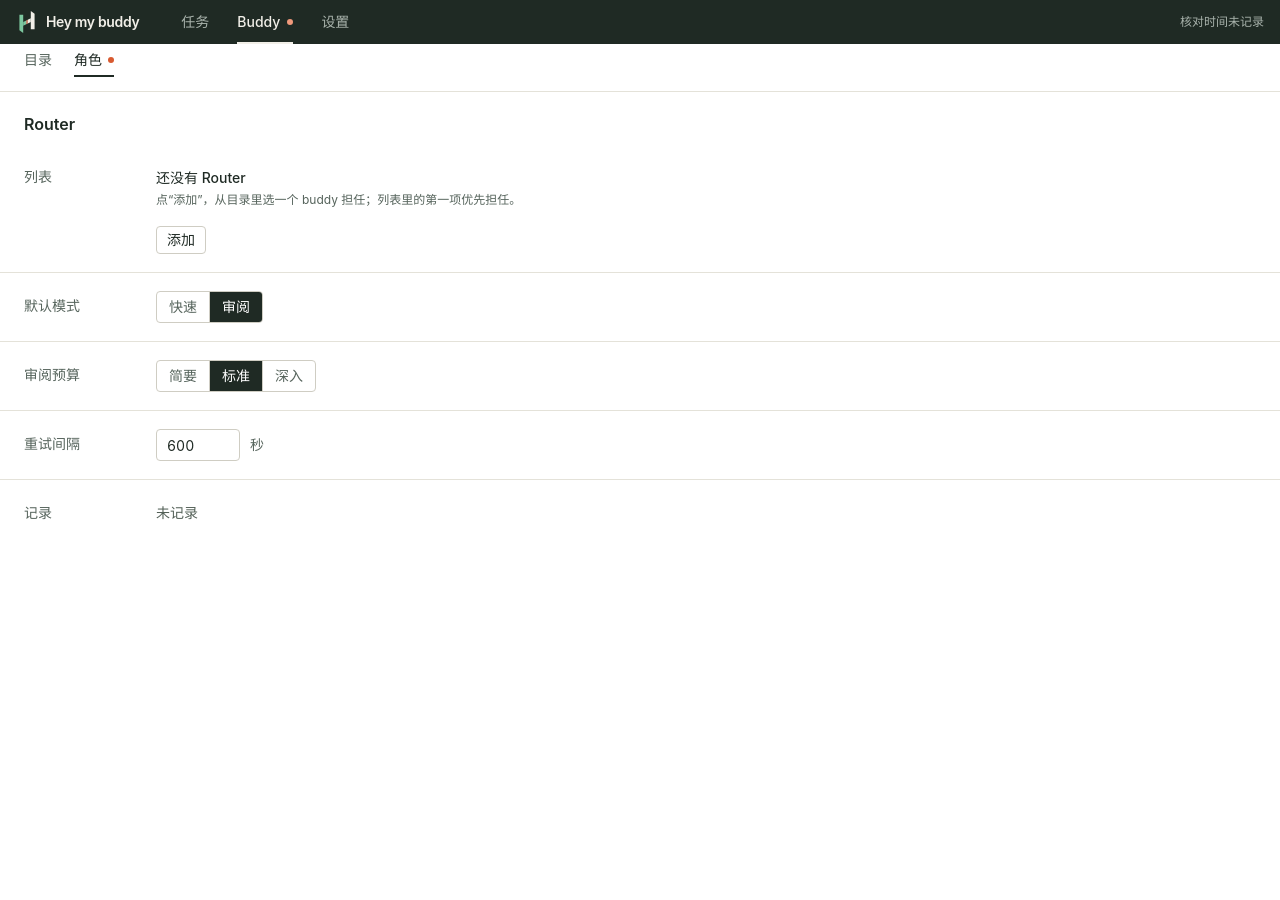
it: adding to the list › adds a buddy to the empty list and publishes a patch of the list alone
The width and height of the screenshot is (1280, 900).
What coordinates should you click on to do the following:
click the button "添加"
I would click on:
 (181, 240)
Its box is [156, 226, 206, 254].
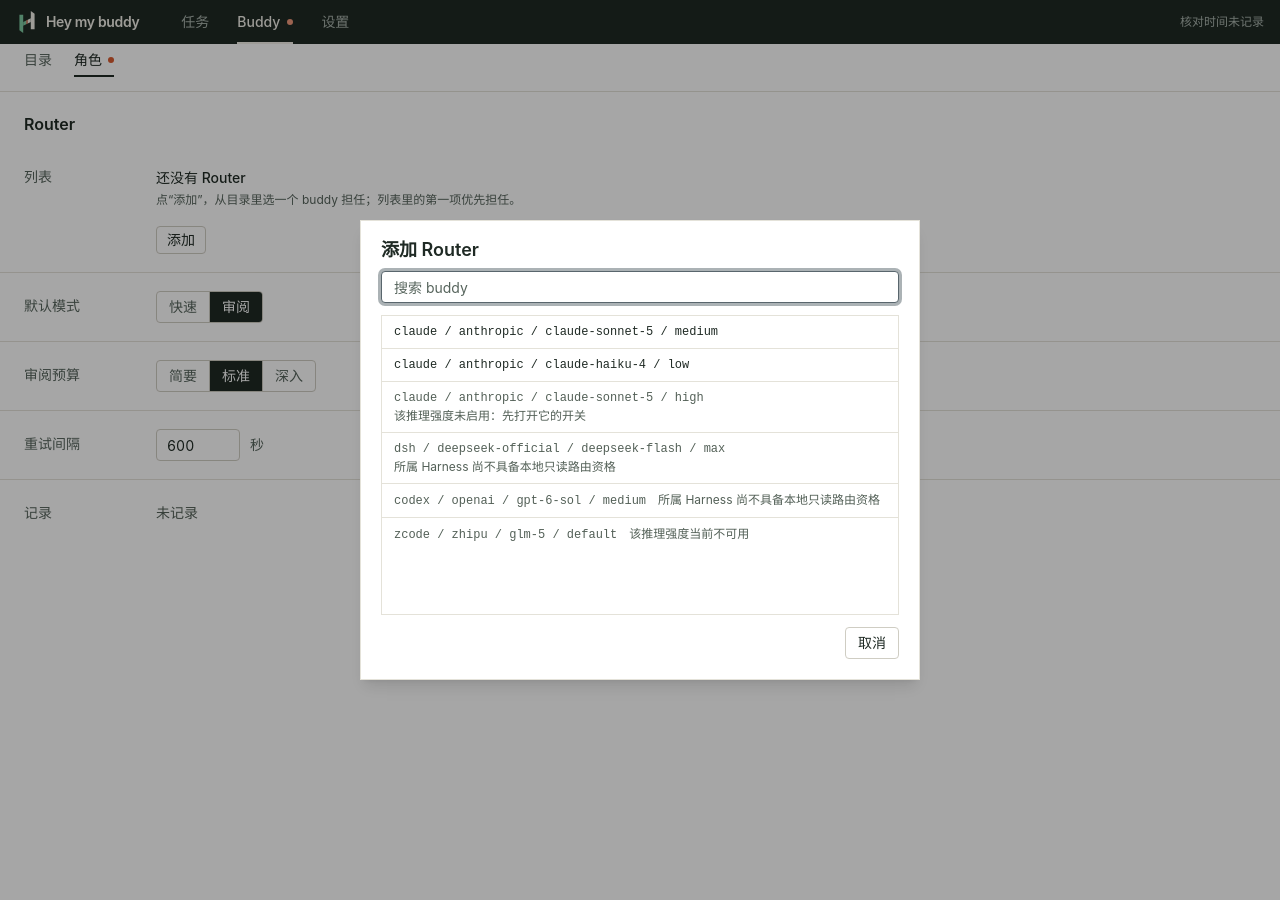
What coordinates should you click on to do the following:
click the button "claude / anthropic / claude-sonnet-5 / medium"
I would click on:
 (640, 332)
Its box is [382, 316, 898, 348].
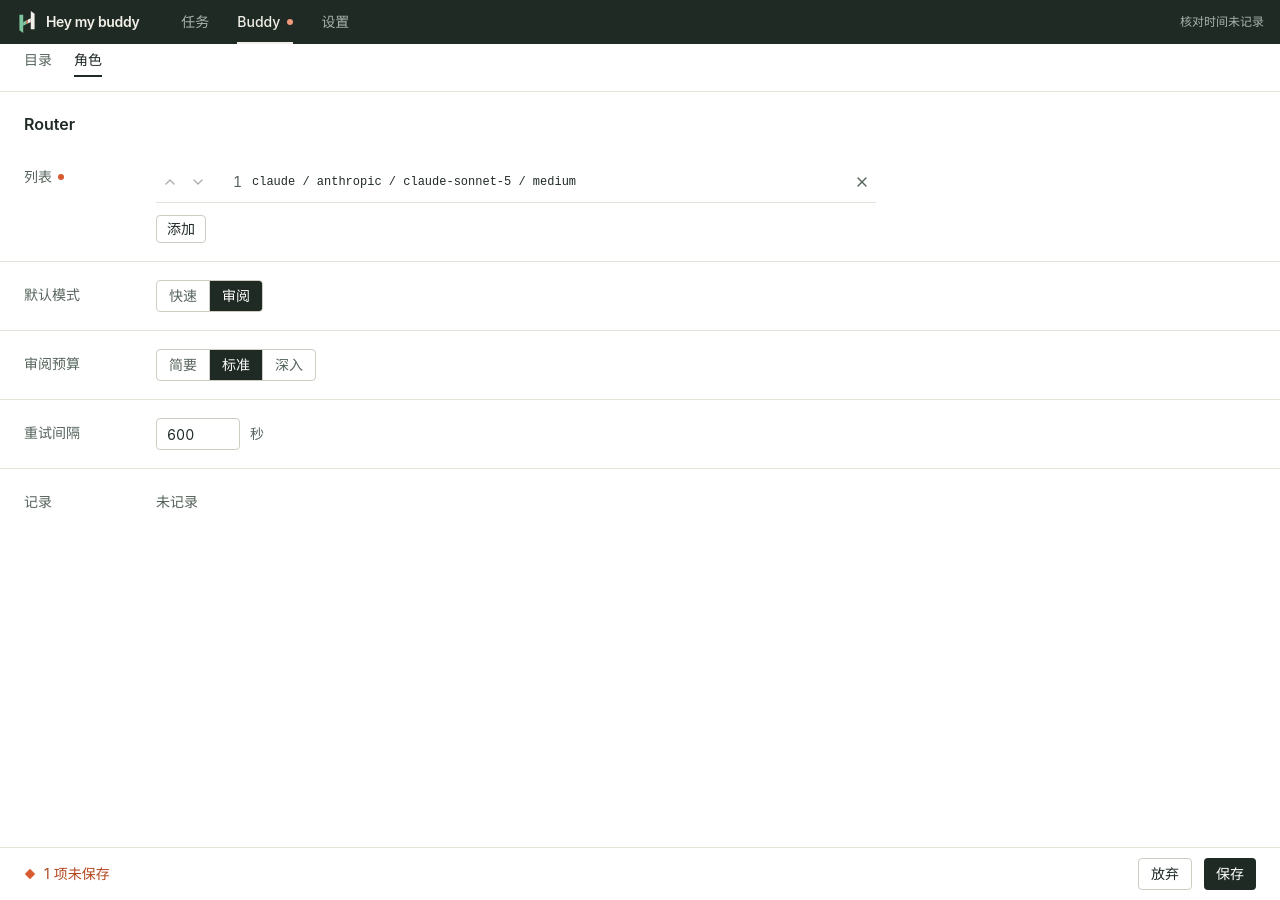
Now the heading "添加 Router" is gone
Now the number of pictures named "未保存" is 1, box [58, 174, 64, 180]
Now the button "该推理强度当前不可用" is gone
What coordinates should you click on to do the following:
click the button "保存"
I would click on:
 (1230, 874)
Its box is [1204, 858, 1256, 890].
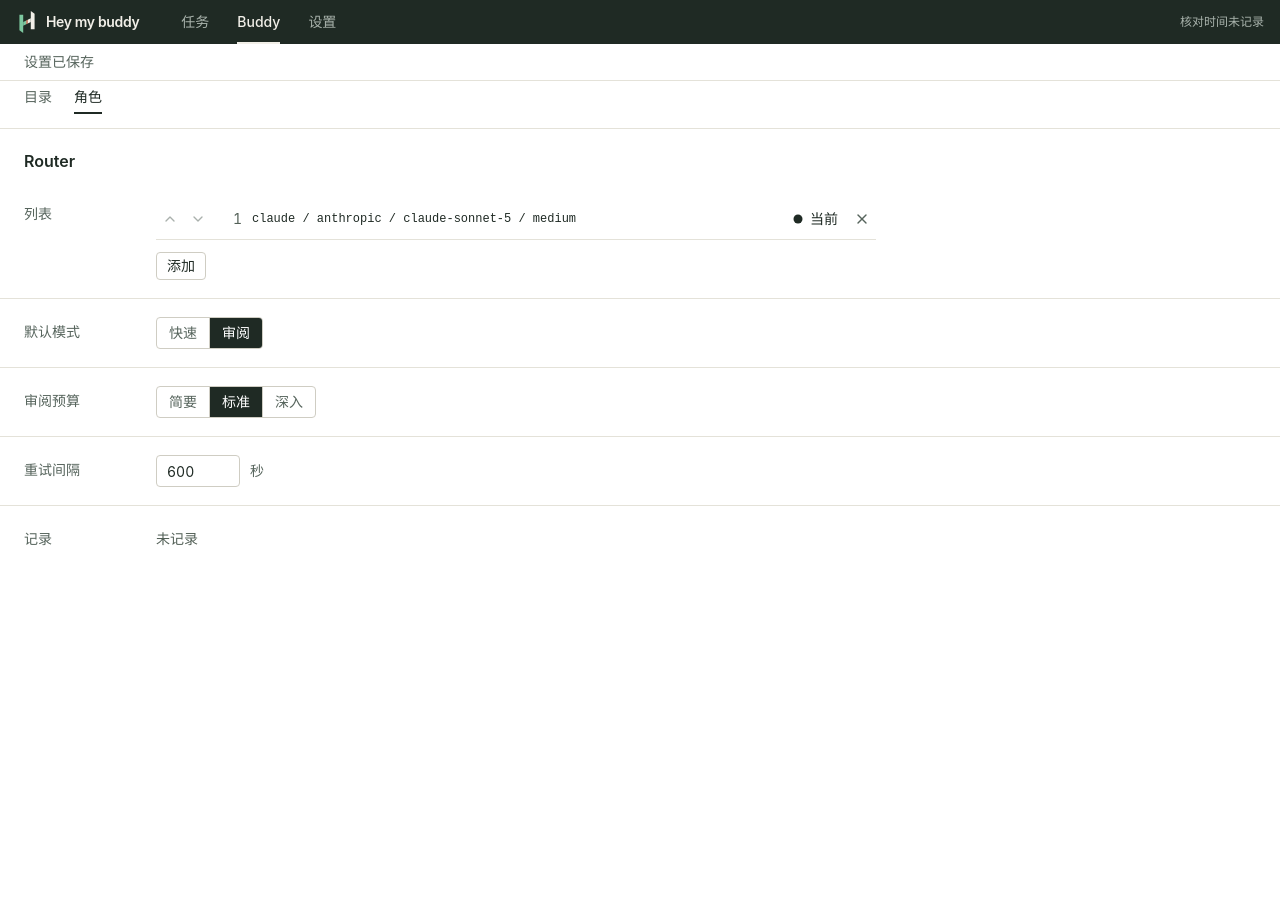
Now the text "设置已保存" is shown, box [0, 44, 1279, 81]
